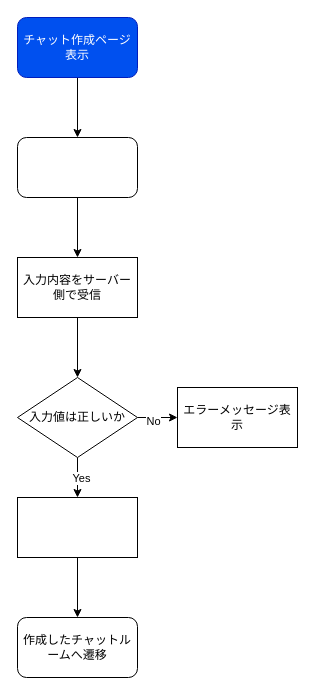
The diagram is 315 pixels wide and 695 high, and some of its shapes have lost their labels. Here are the shapes that lost their labels. From the top down, the centre of each, then its label:
[77,167]: 作成ボタン押下
[77,527]: チャットルーム作成
